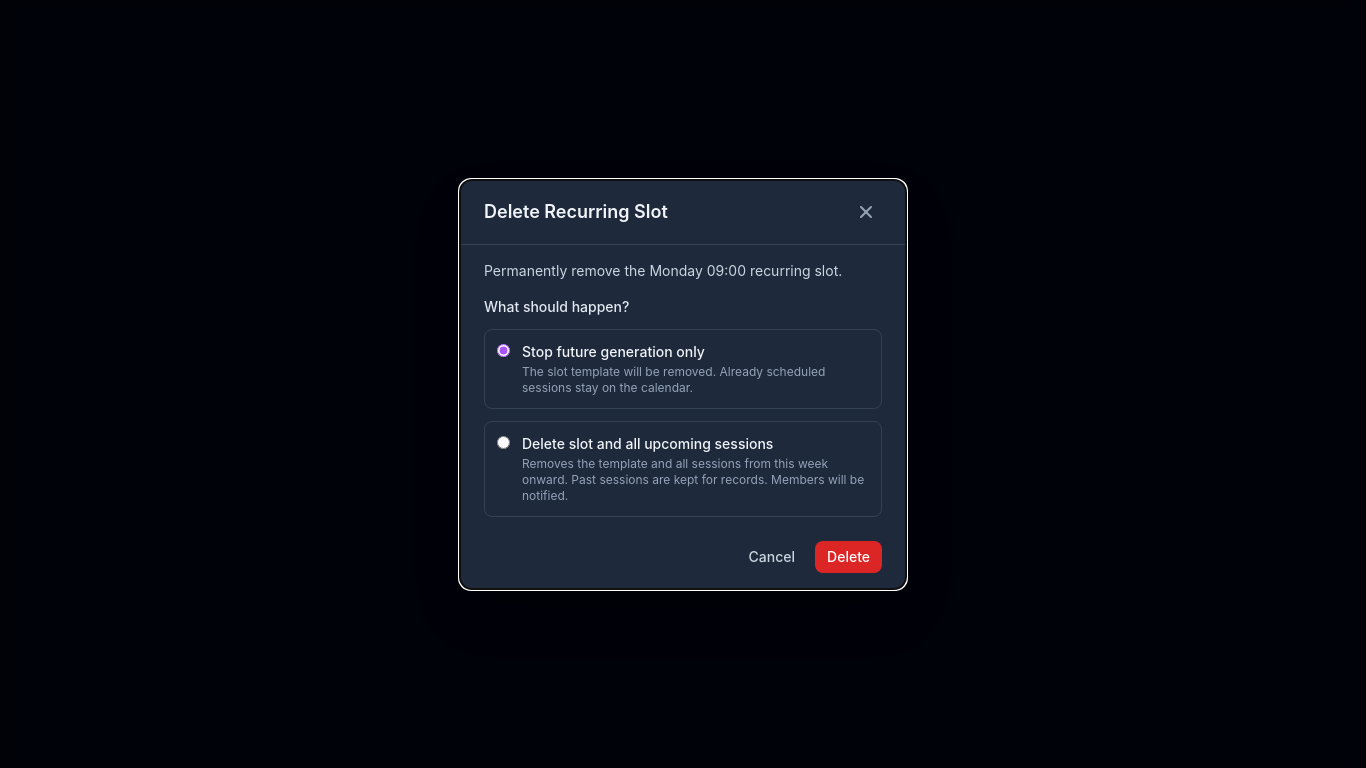
Test: DeleteRecurringSlotModal — i18n › shows translated error on API failure
The width and height of the screenshot is (1366, 768).
Click the button "Delete".
click(849, 556)  # box [815,540,882,572]
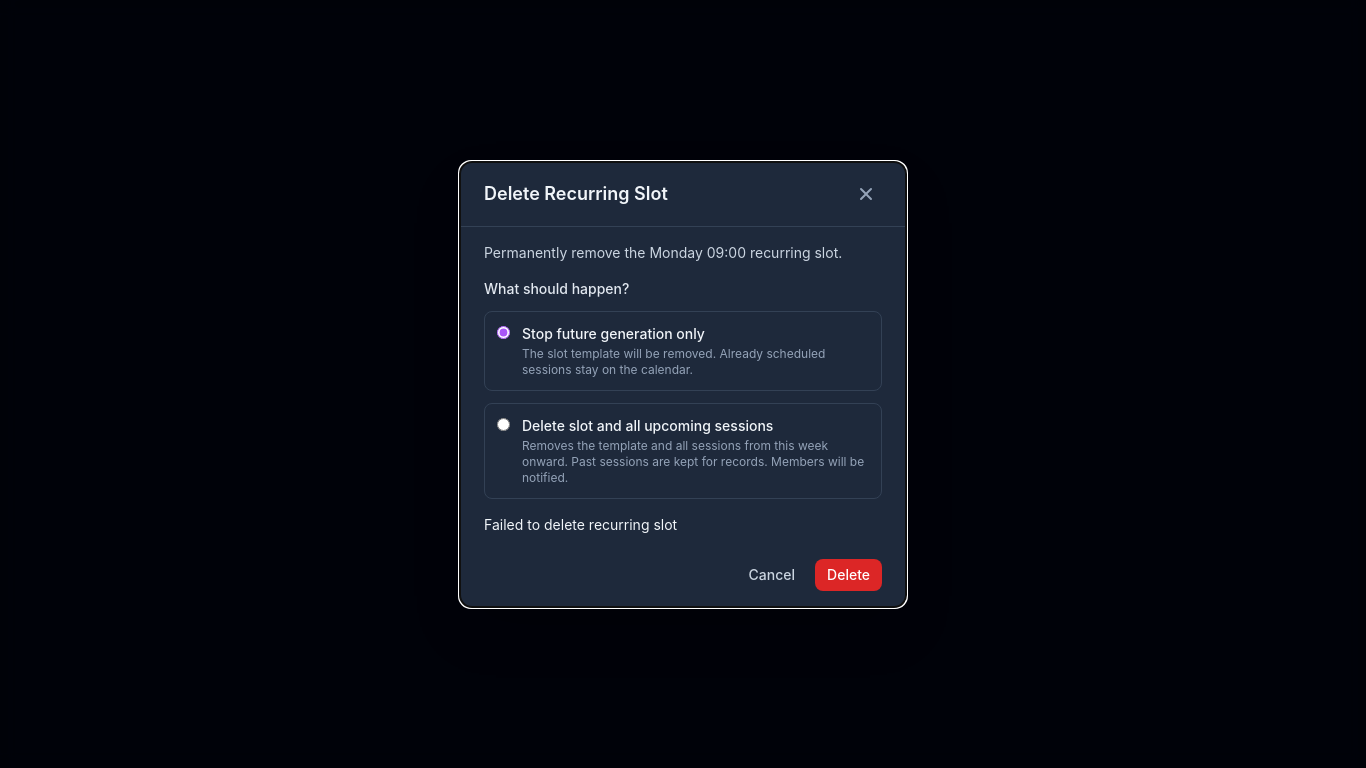
Expected: the text "Failed to delete recurring slot" is shown, [484,516,677,532]
